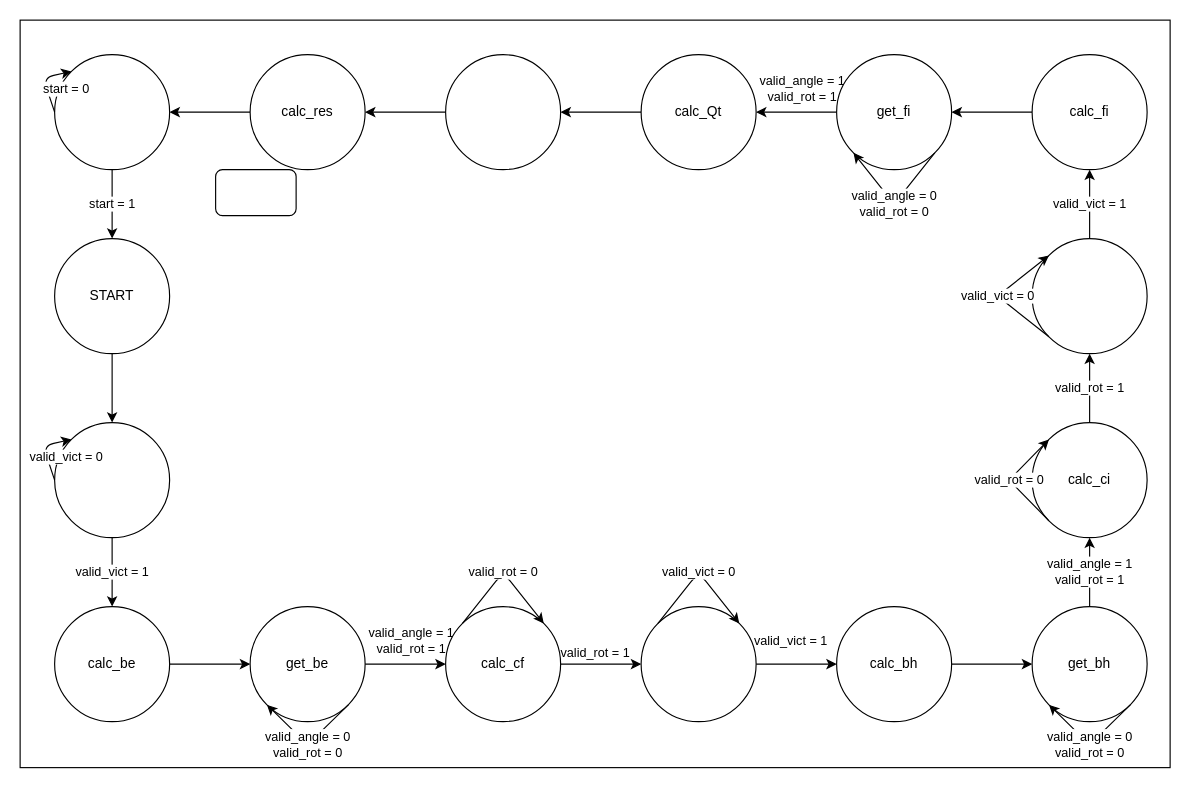
The diagram is 1190 pixels wide and 788 high, and some of its shapes have lost their labels. Each missing label, with the centre of its shape:
"calc_Rinv" belongs at [502,111].
"done = 1" belongs at [255,192].
"eleminate_h" belongs at [1089,295].
"eliminate_d" belongs at [111,479].
"eliminate_g" belongs at [698,663].
"IDLE" belongs at [111,111].
